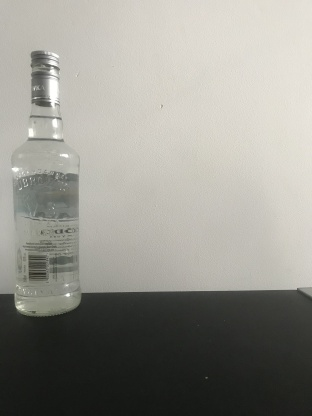nakretka: (29, 48, 61, 108)
